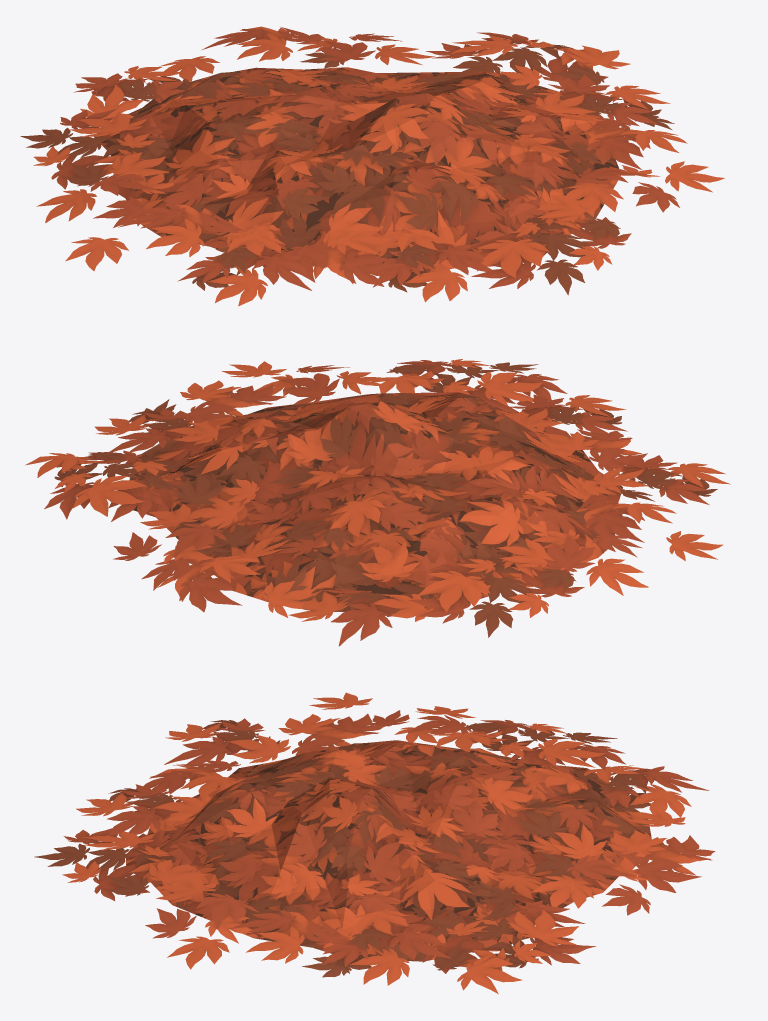
The model's file is SM_Env_Maple_Pile_03.fbx.
The picture shows the model from 3 angles, top to bottom: view 1: azimuth 30°, elevation 25°; view 2: azimuth 150°, elevation 25°; view 3: azimuth 270°, elevation 25°; orthographic projection. The views are drawn at different scales.
Visible parts, largest first — view 1: SM_Env_Maple_Pile_03; view 2: SM_Env_Maple_Pile_03; view 3: SM_Env_Maple_Pile_03.
Part boxes in pixels (box(x1,y1,x2,y2)): SM_Env_Maple_Pile_03: box(20, 26, 724, 306); SM_Env_Maple_Pile_03: box(25, 359, 730, 646); SM_Env_Maple_Pile_03: box(34, 692, 715, 994).
Bounding box in the file's own units: 573 × 60.69 × 555.
